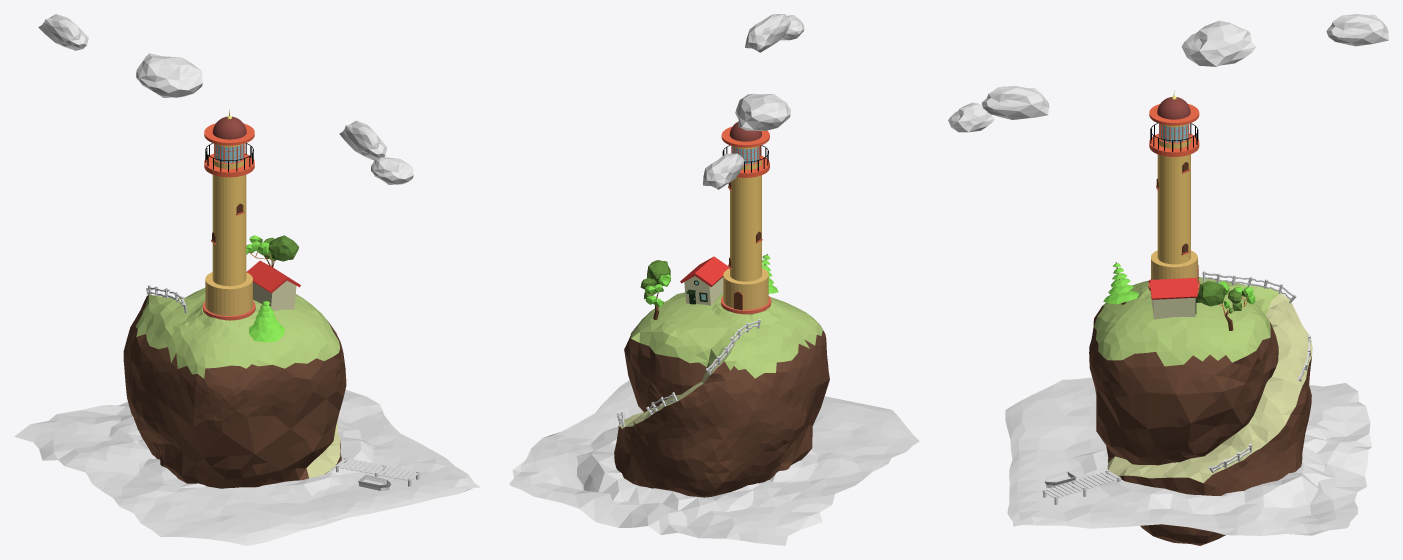
The model's file is faroLowPoly2.fbx.
3 views of the same model, side by side, from view 1: azimuth 30°, elevation 25°; view 2: azimuth 150°, elevation 25°; view 3: azimuth 270°, elevation 25° (orthographic). The views are drawn at different scales.
Parts seen in each view (by area): view 1: Isla, Agua, Faro, Arena, Nube 2, Casa 1.001, Nube 1, Nube 3, Arbol 1.001, Muelle, Pino 1.001, Nube 4; view 2: Isla, Agua, Faro, Arena, Nube 2, Casa 1.001, Nube 1, Nube 3, Arbol 1.001; view 3: Isla, Agua, Faro, Arena, Nube 2, Casa 1.001, Nube 1, Nube 3, Arbol 1.001, Nube 4, Muelle, Pino 1.001 (+1 smaller).
Boxes of the visible parts, <box> form: Isla: <box>123,288,346,488</box>; Agua: <box>14,389,480,545</box>; Faro: <box>202,110,255,320</box>; Arena: <box>109,415,374,496</box>; Nube 2: <box>136,53,202,97</box>; Casa 1.001: <box>246,260,300,311</box>; Nube 1: <box>339,120,386,160</box>; Nube 3: <box>38,14,88,50</box>; Arbol 1.001: <box>246,235,298,267</box>; Muelle: <box>335,457,419,486</box>; Pino 1.001: <box>249,300,284,342</box>; Nube 4: <box>371,157,413,184</box>; Isla: <box>614,292,829,497</box>; Agua: <box>509,380,919,545</box>; Faro: <box>721,121,771,314</box>; Arena: <box>576,427,820,518</box>; Nube 2: <box>735,93,790,130</box>; Casa 1.001: <box>680,256,729,305</box>; Nube 1: <box>745,14,790,52</box>; Nube 3: <box>703,153,744,189</box>; Arbol 1.001: <box>640,260,670,319</box>; Isla: <box>1089,277,1312,545</box>; Agua: <box>1005,377,1372,535</box>; Faro: <box>1148,90,1200,291</box>; Arena: <box>1072,417,1333,514</box>; Nube 2: <box>1181,20,1255,66</box>; Casa 1.001: <box>1148,277,1199,319</box>; Nube 1: <box>982,86,1049,119</box>; Nube 3: <box>1326,14,1388,46</box>; Arbol 1.001: <box>1197,281,1255,330</box>; Nube 4: <box>948,102,994,132</box>; Muelle: <box>1042,470,1121,504</box>; Pino 1.001: <box>1103,262,1138,304</box>.
Size of the model in its own units: 432 by 598 by 529.
